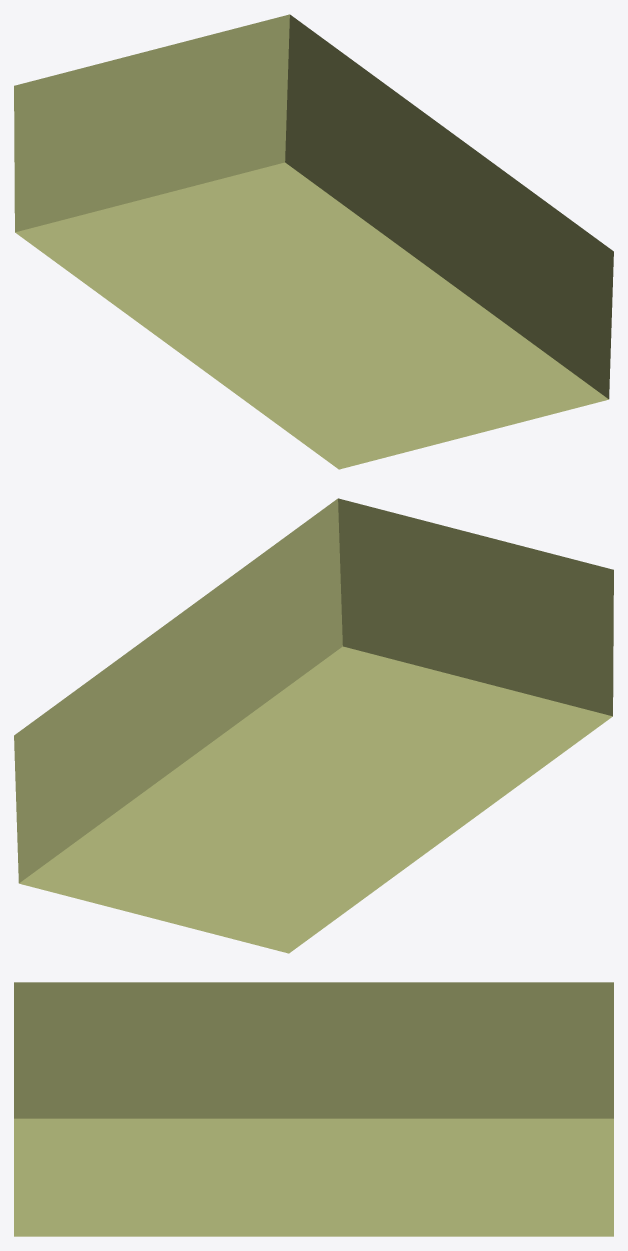
3 views of the same model, one above another, from view 1: azimuth 30°, elevation 25°; view 2: azimuth 150°, elevation 25°; view 3: azimuth 270°, elevation 25° (orthographic). The views are drawn at different scales.
Visible parts, largest first — view 1: 0_2_1_0_0_3_0_3_0_0_1_0; view 2: 0_2_1_0_0_3_0_3_0_0_1_0; view 3: 0_2_1_0_0_3_0_3_0_0_1_0.
Boxes of the visible parts, x1,y1,x2,y2 form: 0_2_1_0_0_3_0_3_0_0_1_0: (14,14,613,469); 0_2_1_0_0_3_0_3_0_0_1_0: (14,498,613,953); 0_2_1_0_0_3_0_3_0_0_1_0: (14,982,613,1236).
Size of the model in its own units: 2.95 by 1.54 by 6.
